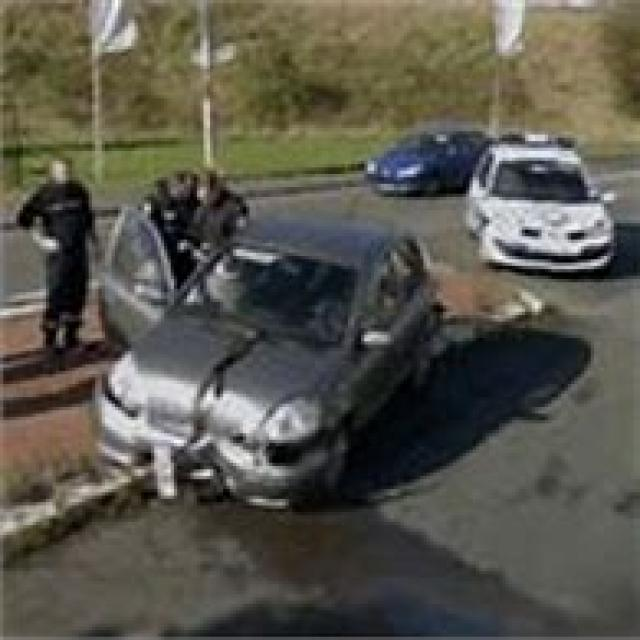Accident: (70, 94, 485, 492)
